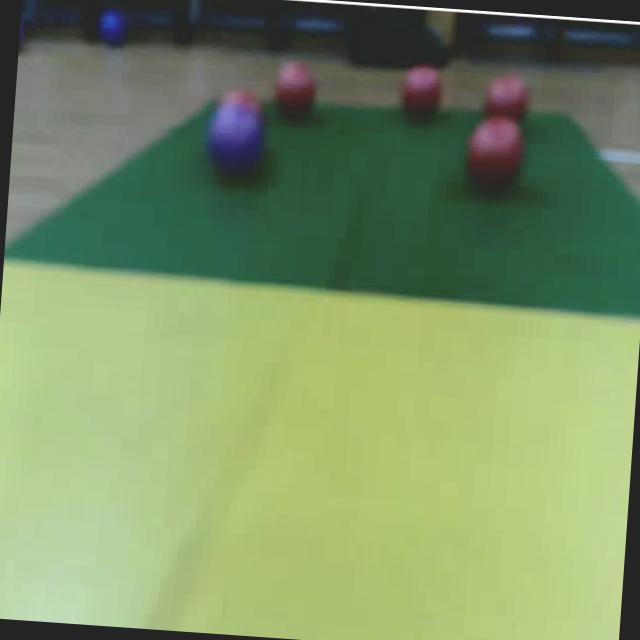blue_ball: (95, 6, 128, 52)
purple_ball: (200, 100, 266, 184)
red_ball: (463, 114, 527, 202), (396, 68, 450, 127), (272, 59, 320, 124), (477, 76, 532, 127)
